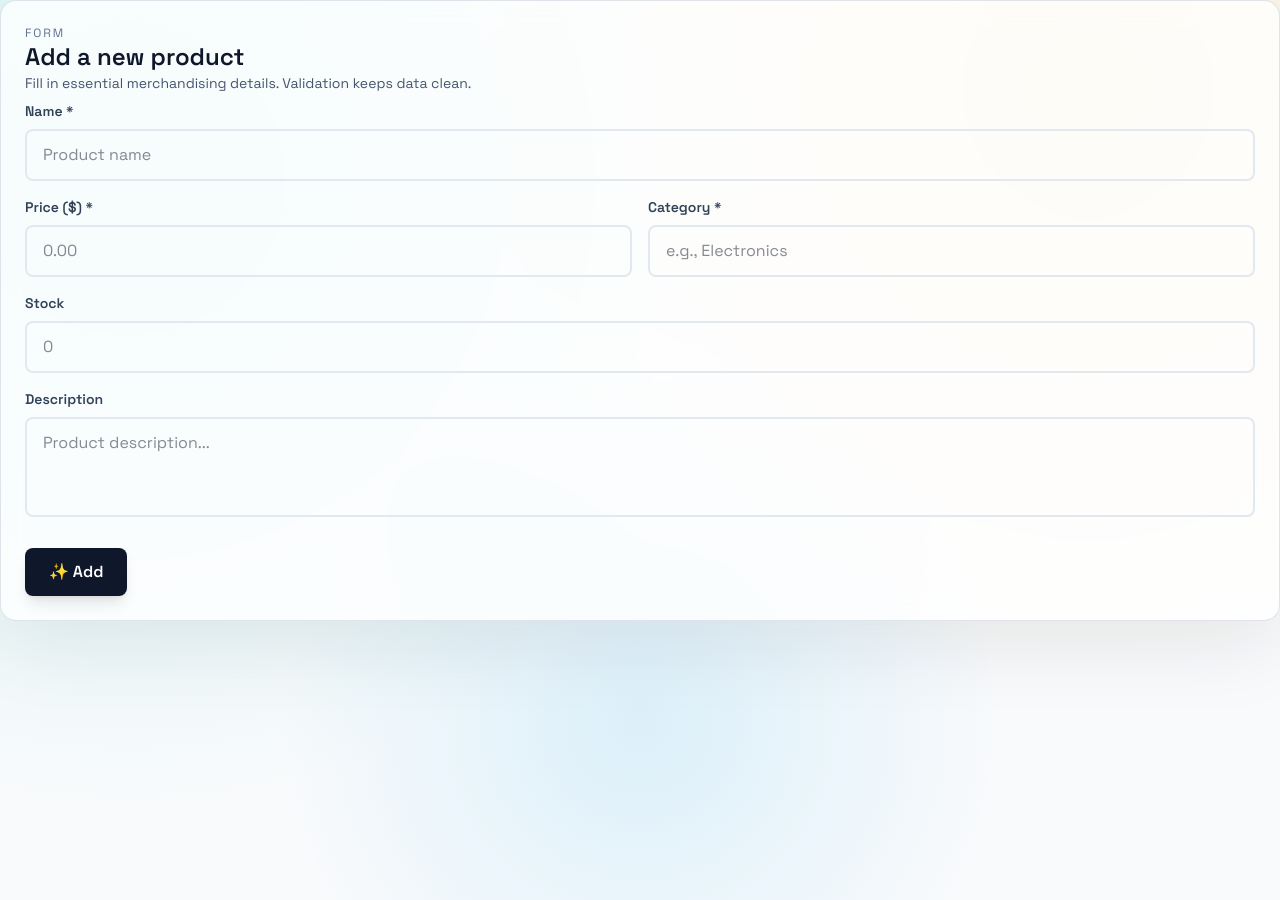
ProductForm › validates required fields and blocks submit
Click the button "✨ Add".
click(76, 572)  # box [25, 548, 127, 596]
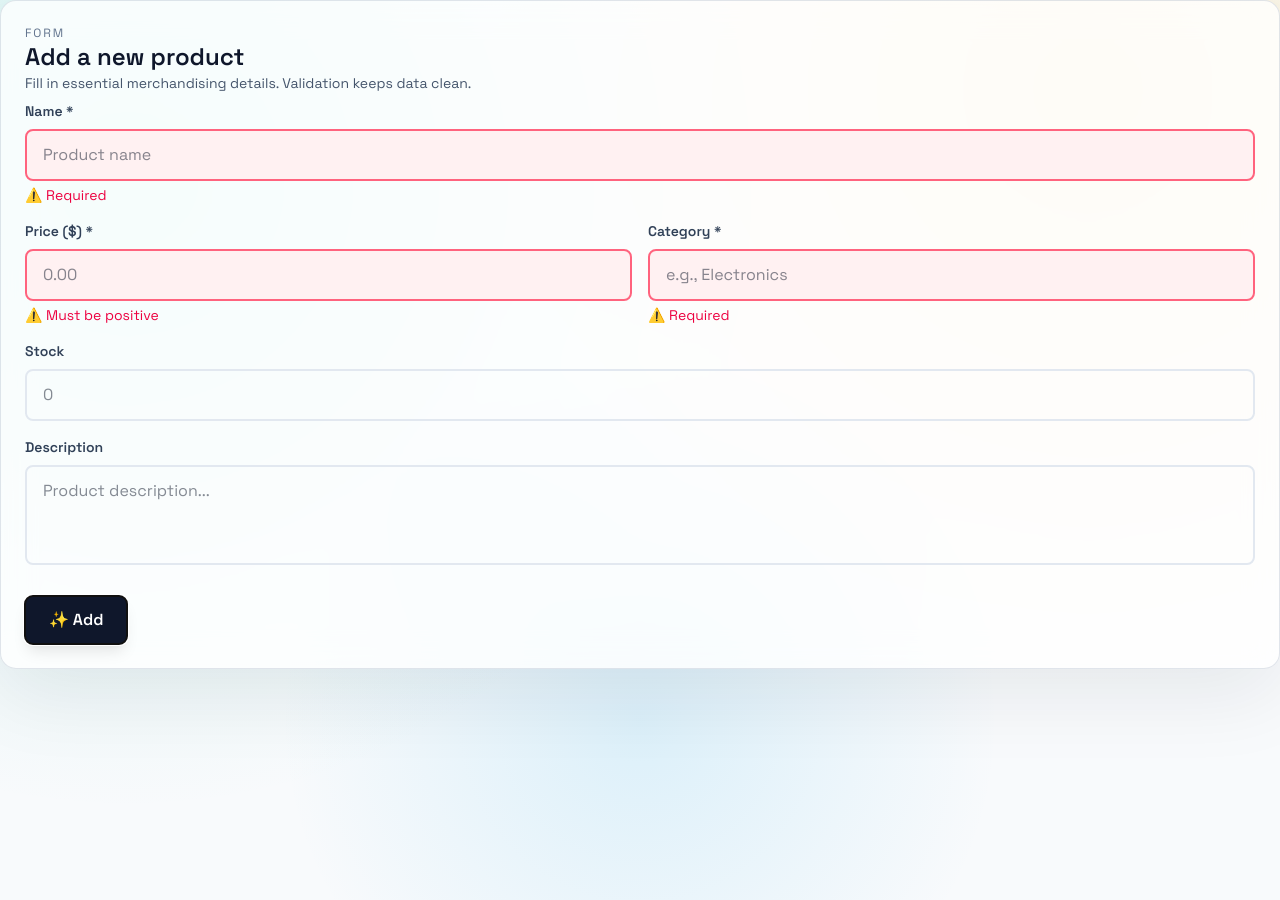
Check: the text "⚠️ Required" below "Name *" is shown, box [46, 186, 107, 204]
Check: the text "⚠️ Must be positive" is shown, box [25, 306, 159, 324]
